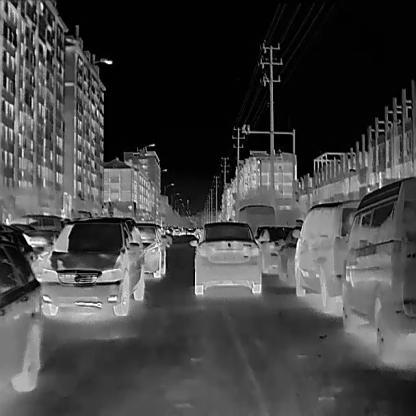car: (333, 174, 415, 358), (42, 215, 145, 316), (294, 197, 363, 306), (0, 238, 43, 393), (189, 221, 263, 295), (277, 217, 322, 285), (235, 202, 275, 265), (252, 222, 298, 272), (131, 222, 166, 277)
